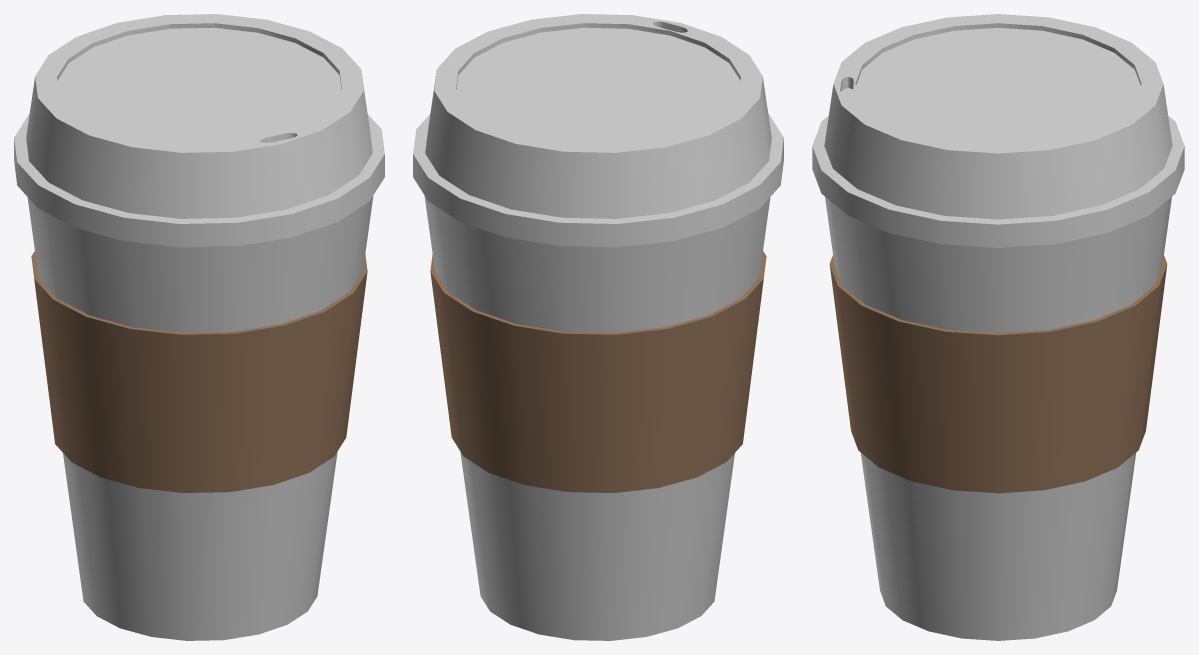
File: coffee.fbx
3 renders of one model, left to right at view 1: azimuth 30°, elevation 25°; view 2: azimuth 150°, elevation 25°; view 3: azimuth 270°, elevation 25°, orthographic.
Parts seen in each view (by area): view 1: pCylinder9, pCylinder1, pCylinder8; view 2: pCylinder9, pCylinder1, pCylinder8; view 3: pCylinder9, pCylinder1, pCylinder8.
Boxes of the visible parts, <box> form: pCylinder9: <box>14,14,384,247</box>; pCylinder1: <box>27,196,373,640</box>; pCylinder8: <box>31,251,367,492</box>; pCylinder9: <box>413,14,783,247</box>; pCylinder1: <box>424,196,770,640</box>; pCylinder8: <box>430,251,766,492</box>; pCylinder9: <box>812,14,1184,247</box>; pCylinder1: <box>825,197,1171,640</box>; pCylinder8: <box>829,255,1167,493</box>.
Bounding box in the file's own units: 7.14 × 10.72 × 7.14.
